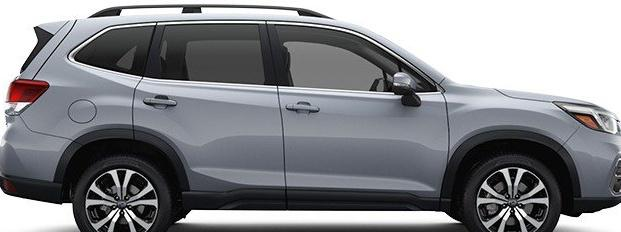SUV: (0, 4, 621, 232)
